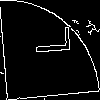L: (25, 24, 71, 57)
